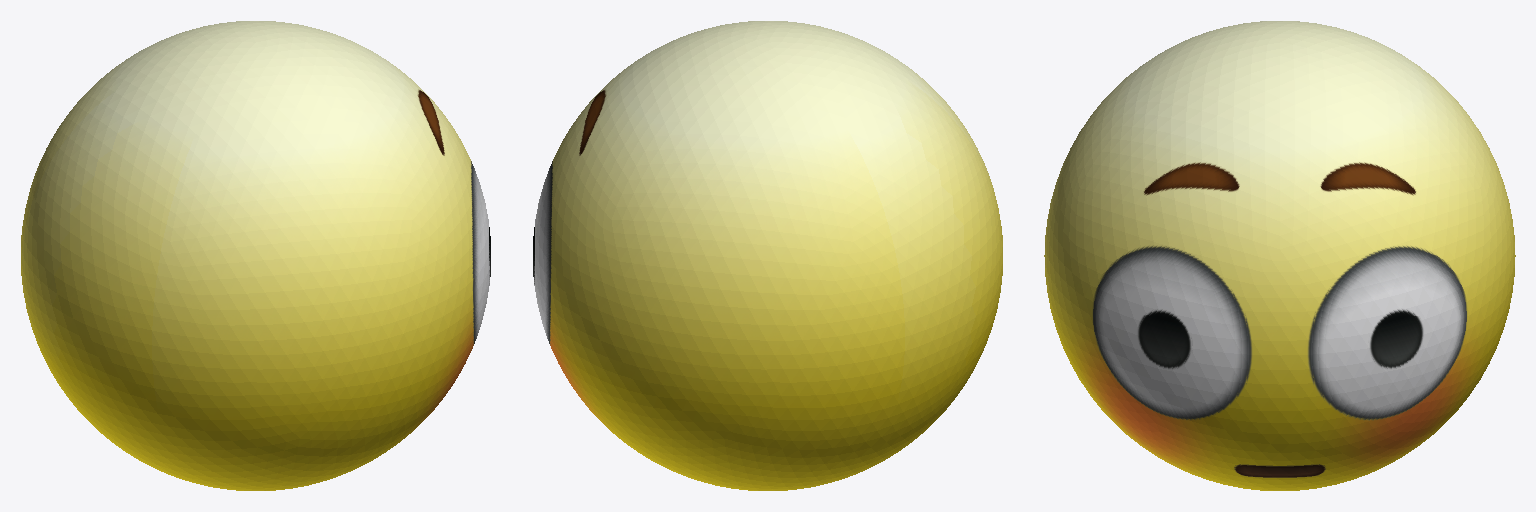
The picture shows the model from 3 angles: view 1: azimuth 30°, elevation 25°; view 2: azimuth 150°, elevation 25°; view 3: azimuth 270°, elevation 25°; orthographic projection.
Visible parts, largest first — view 1: Icosphere; view 2: Icosphere; view 3: Icosphere.
Part boxes in pixels (x1,y1,x2,y2): Icosphere: (21, 21, 490, 490); Icosphere: (533, 21, 1002, 490); Icosphere: (1044, 21, 1515, 490).
Size of the model in its own units: 2 by 2 by 2.
Materials: 1 (1 with a texture image).